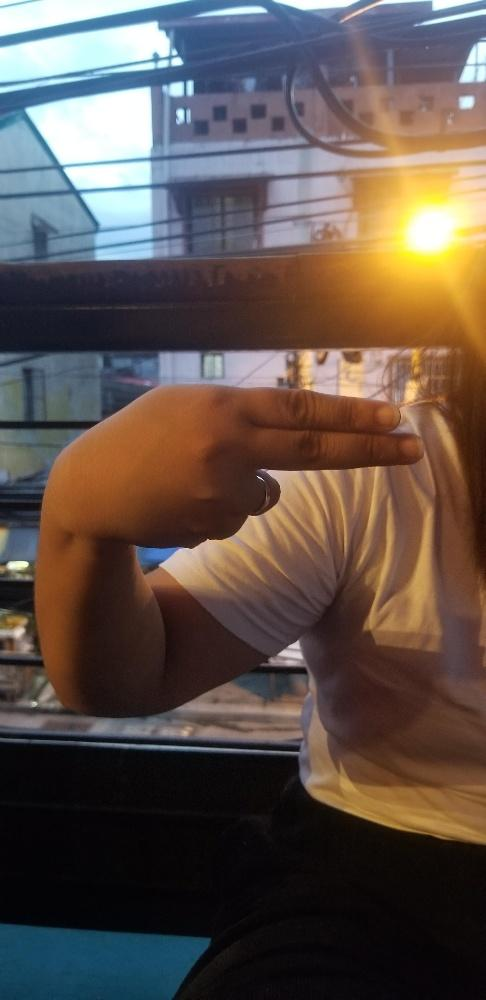h: (56, 378, 423, 548)
